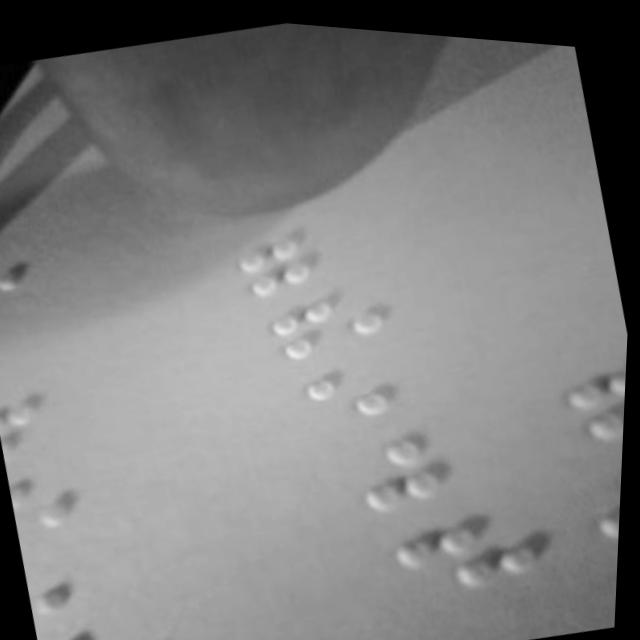braiile: (386, 483, 560, 610), (351, 403, 505, 521), (253, 265, 416, 374), (297, 329, 451, 438), (227, 207, 377, 310), (25, 534, 145, 624), (9, 457, 122, 551), (0, 377, 93, 467), (52, 602, 189, 640)
